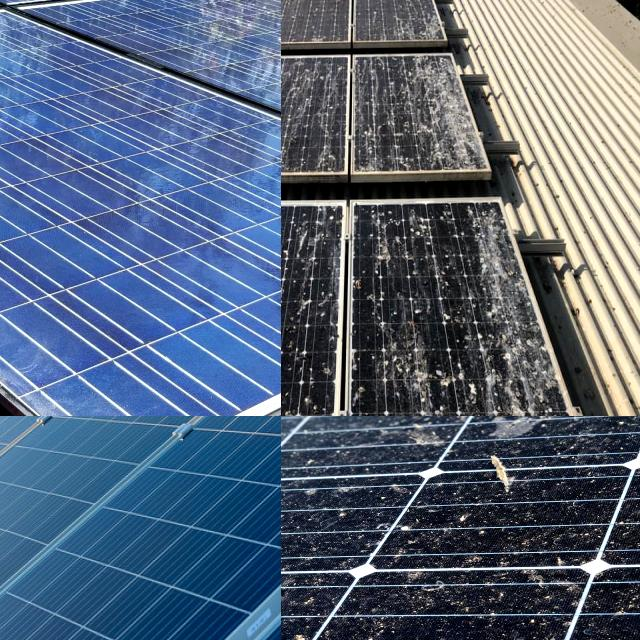bird: (451, 416, 589, 495), (353, 345, 462, 416), (425, 234, 494, 324), (281, 281, 322, 402), (477, 332, 534, 416), (281, 213, 330, 302), (281, 204, 341, 268), (281, 318, 317, 416), (281, 280, 309, 391), (412, 59, 459, 122), (469, 416, 584, 441), (370, 117, 420, 157), (325, 59, 342, 171)
crack: (122, 295, 281, 404), (126, 201, 281, 305), (16, 300, 148, 416), (10, 34, 126, 134), (0, 160, 114, 261), (119, 126, 225, 214), (180, 27, 281, 91), (0, 118, 56, 211), (0, 243, 67, 320), (0, 139, 57, 213), (0, 36, 43, 119), (0, 0, 47, 30)
panel: (50, 416, 281, 479), (0, 416, 82, 499), (0, 416, 91, 472), (0, 518, 50, 570), (0, 416, 66, 455)
